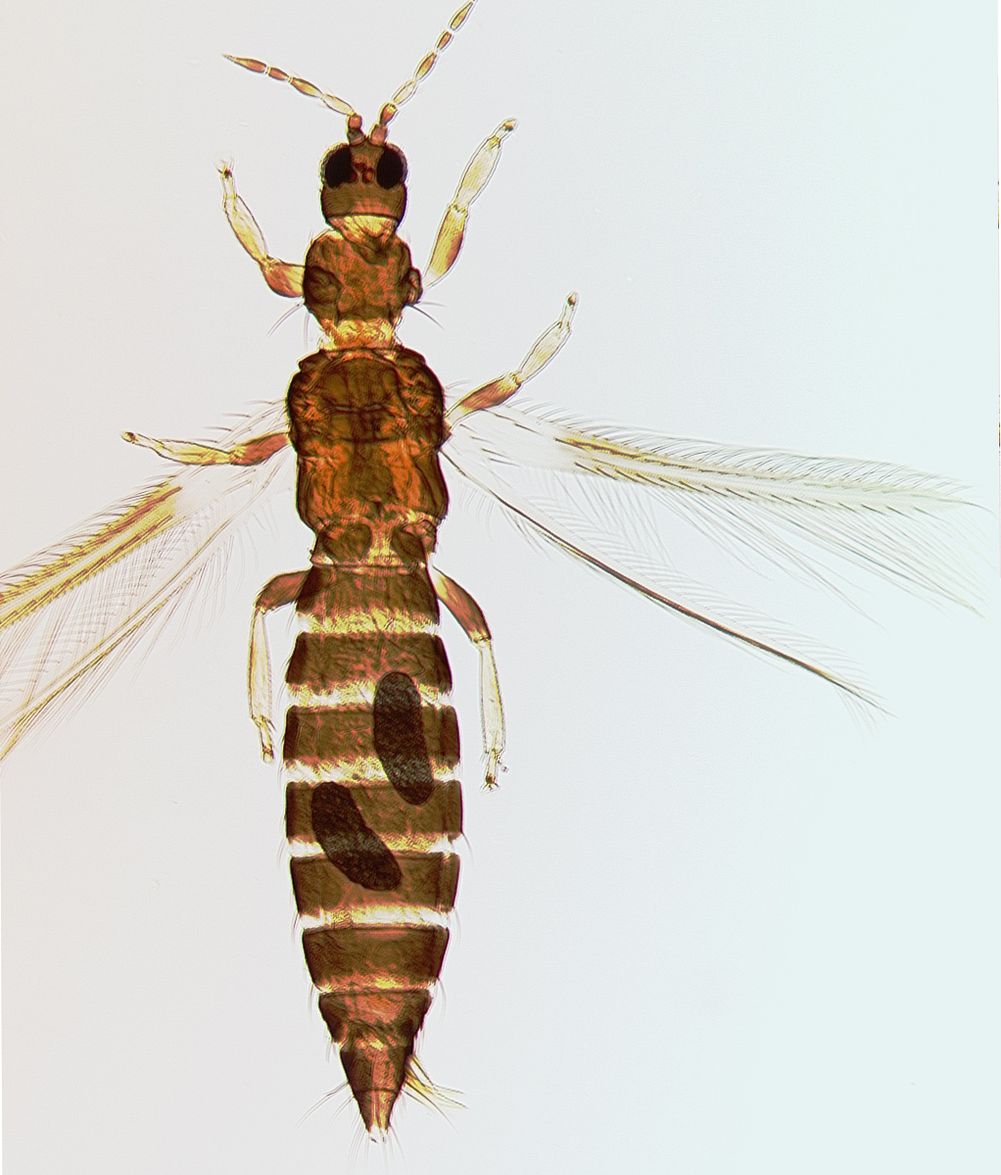Thripidae: (6, 8, 979, 1149)
